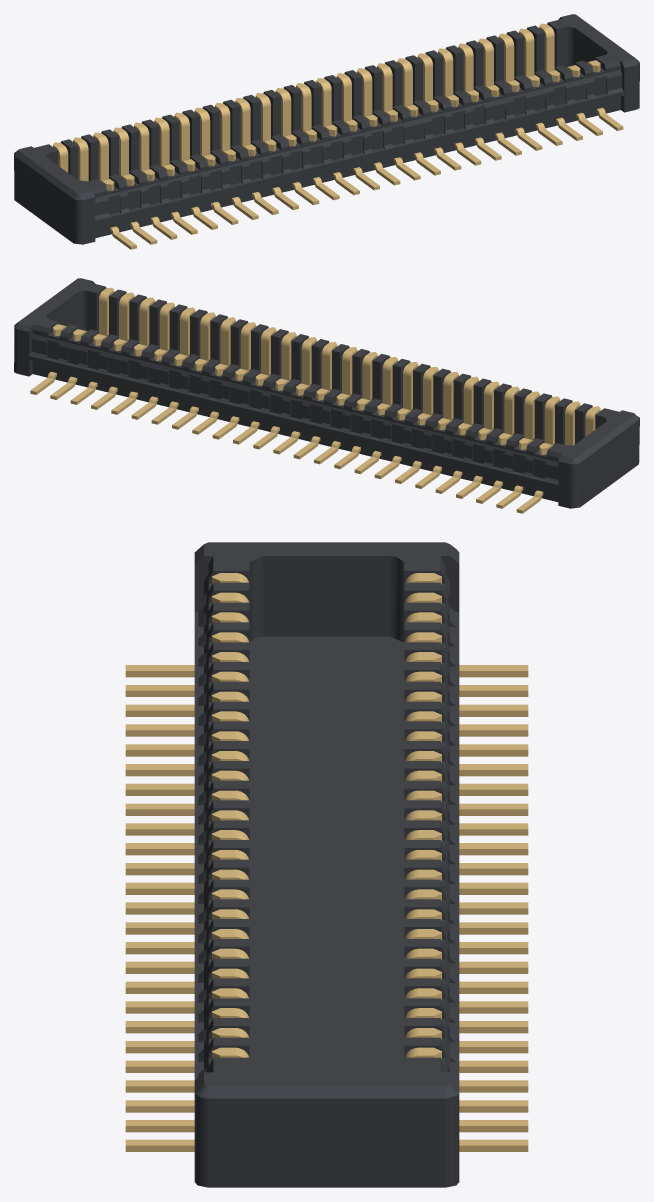
The model's file is kc-molex_slimstack_55560-0501_2x25_p0.50mm_vertical.glb.
3 renders of one model, top to bottom at view 1: azimuth 30°, elevation 25°; view 2: azimuth 150°, elevation 25°; view 3: azimuth 270°, elevation 25°, orthographic. The views are drawn at different scales.
Visible parts, largest first — view 1: 0.08333333333333333_0.08333333333333333_0.08333333333333333_, 0.75_0.5_0.25_0.9; view 2: 0.08333333333333333_0.08333333333333333_0.08333333333333333_, 0.75_0.5_0.25_0.9; view 3: 0.08333333333333333_0.08333333333333333_0.08333333333333333_, 0.75_0.5_0.25_0.9.
Part boxes in pixels (x1,y1,x2,y2): 0.08333333333333333_0.08333333333333333_0.08333333333333333_: (14,14,639,244); 0.75_0.5_0.25_0.9: (53,23,623,249); 0.08333333333333333_0.08333333333333333_0.08333333333333333_: (14,278,639,508); 0.75_0.5_0.25_0.9: (30,287,600,513); 0.08333333333333333_0.08333333333333333_0.08333333333333333_: (194,542,459,1187); 0.75_0.5_0.25_0.9: (125,573,528,1151).
Size of the model in its own units: 1.39 by 0.115 by 0.43.
